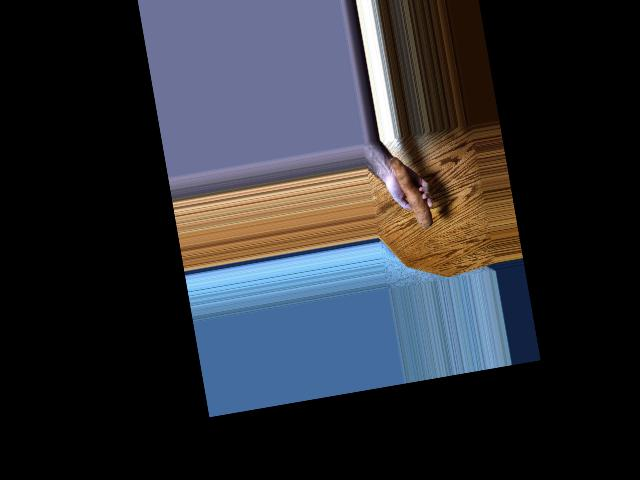sweet_potato: (395, 160, 439, 242)
